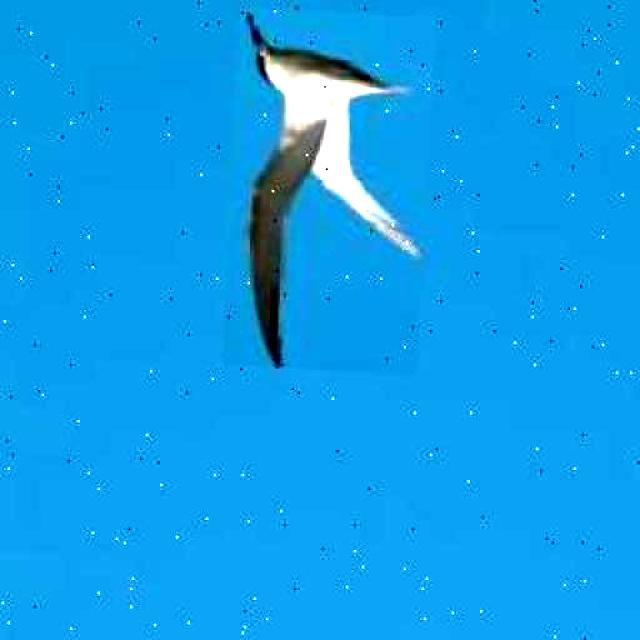airplane: (222, 8, 436, 375)
